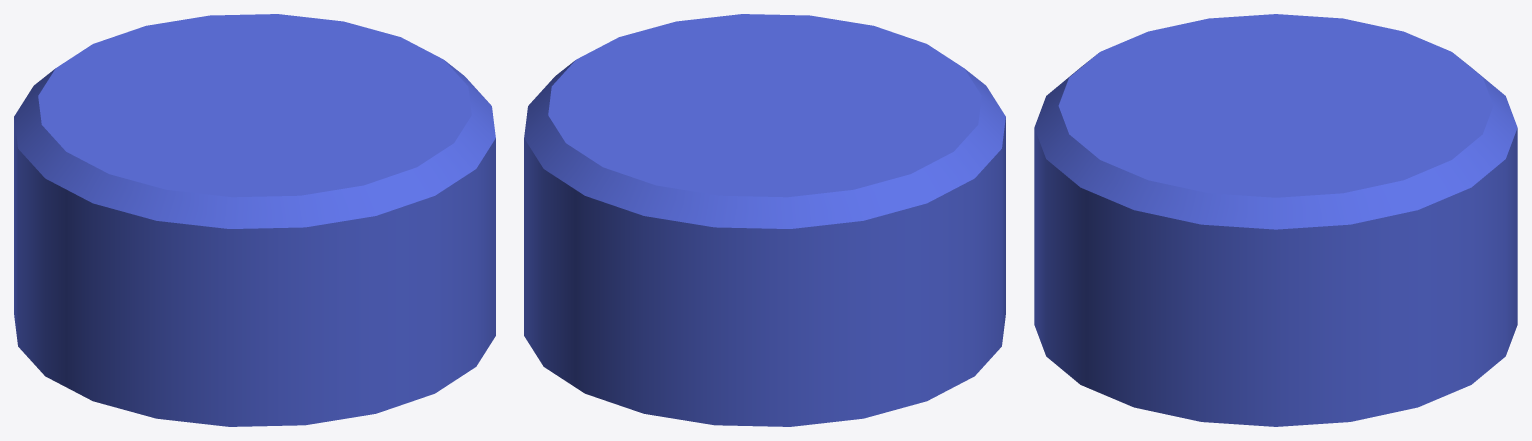
File: BtnCir02.fbx
3 renders of one model, left to right at view 1: azimuth 30°, elevation 25°; view 2: azimuth 150°, elevation 25°; view 3: azimuth 270°, elevation 25°, orthographic.
Parts seen in each view (by area): view 1: BtnCir02; view 2: BtnCir02; view 3: BtnCir02.
Boxes of the visible parts, box(x1,y1,x2,y2) form: BtnCir02: box(14, 14, 495, 426); BtnCir02: box(524, 14, 1005, 426); BtnCir02: box(1034, 14, 1517, 426).
Bounding box in the file's own units: 2 × 1 × 2.
